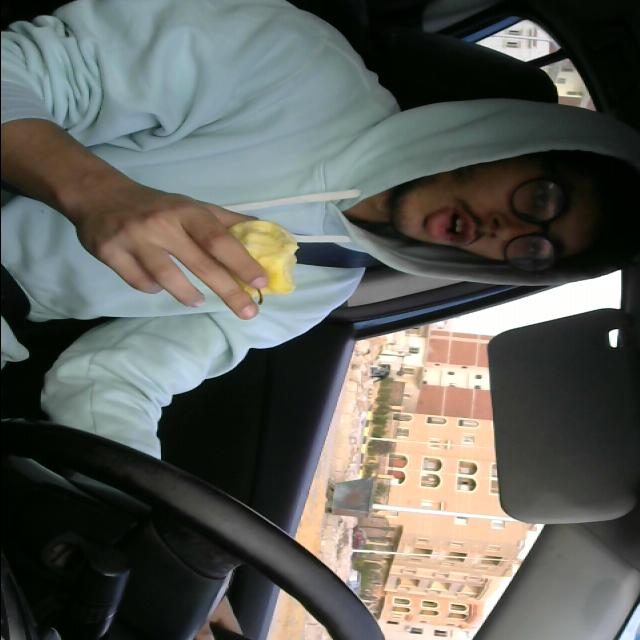eating: (222, 216, 304, 306)
